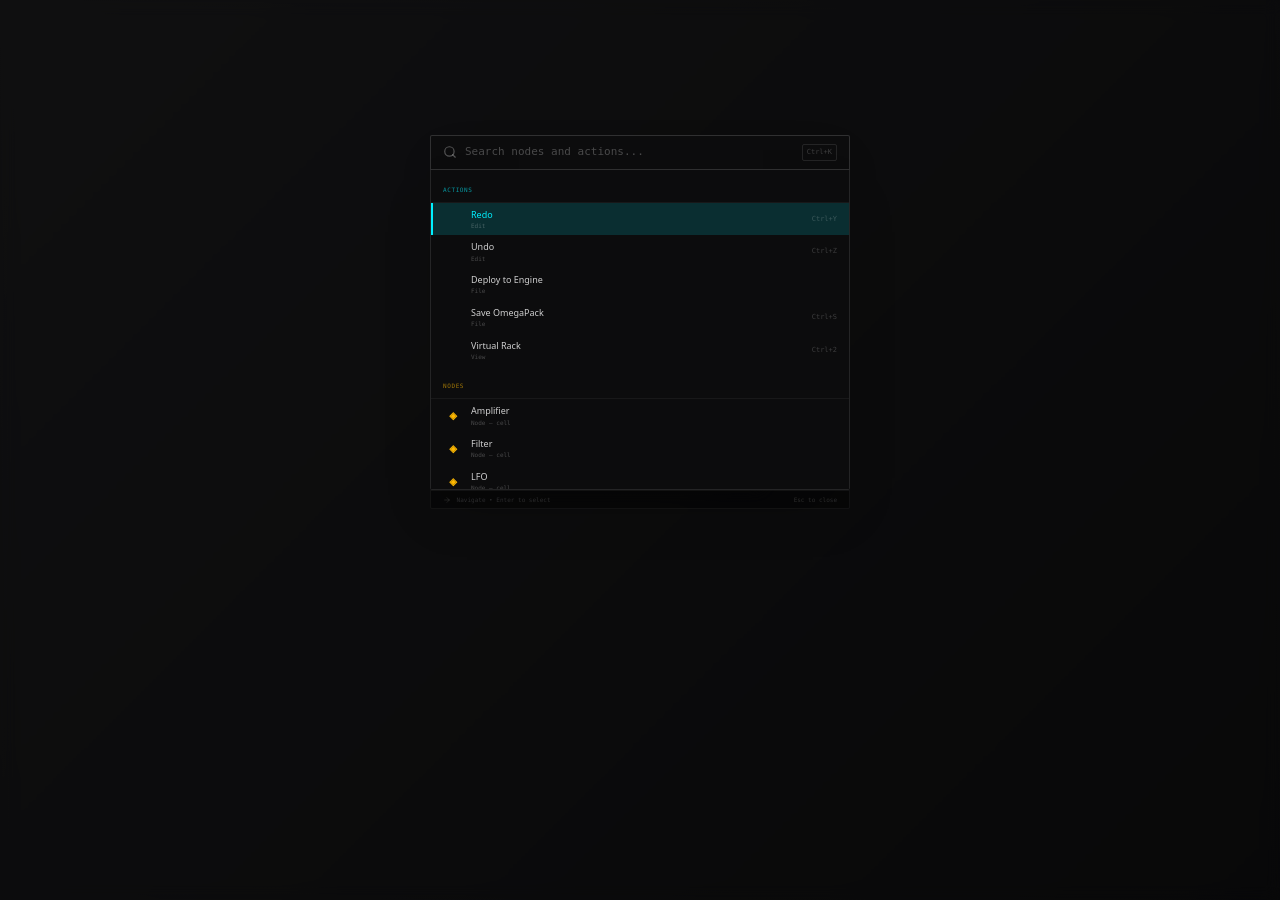
Test: CommandPalette — search / filtering › should match case-insensitively
This screenshot has width=1280, height=900.
Type "UNDO" into the field with placeholder "Search nodes and actions...". click: (629, 152)
box: 465,144 -> 794,160
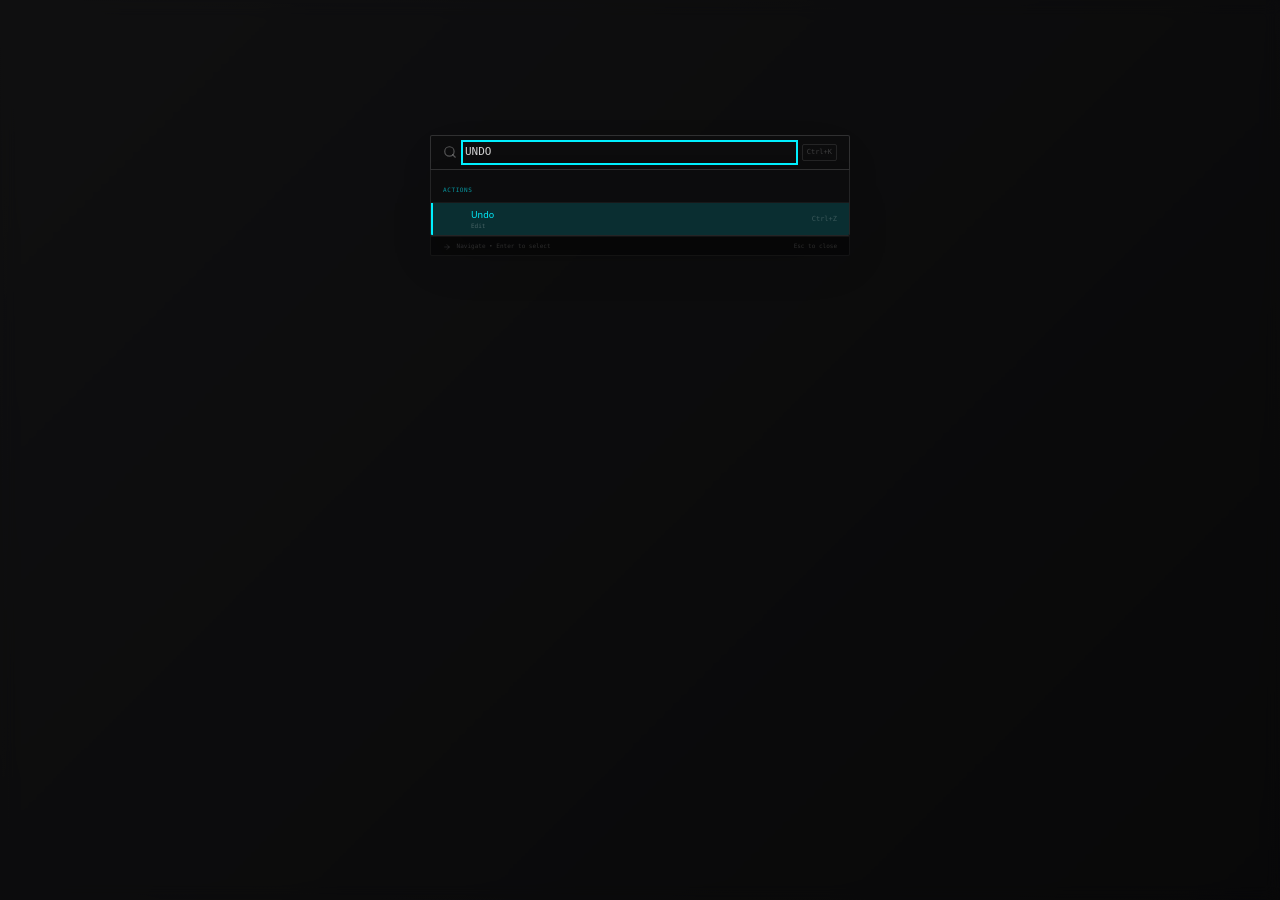
Result: the text "Undo" is shown at 471,208 -> 494,220
